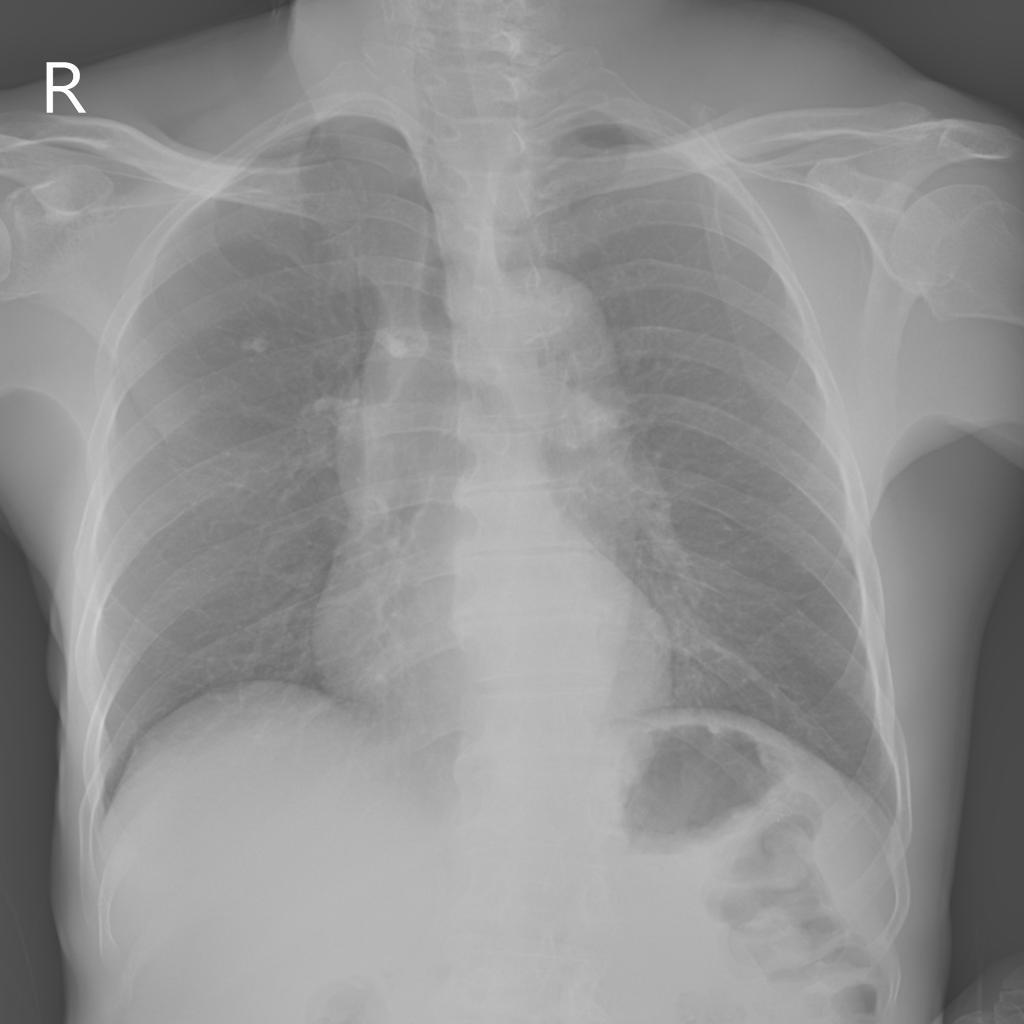Nodule: (242, 332, 263, 353)
